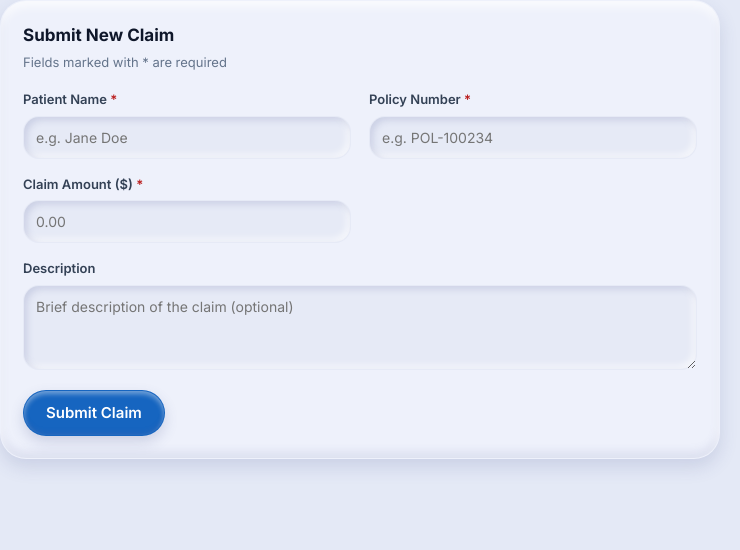
Test: ClaimForm › shows an error alert when the API rejects the submission
Type "Jane" into the field named "patientName" at (187, 137), box [23,116,351,158]
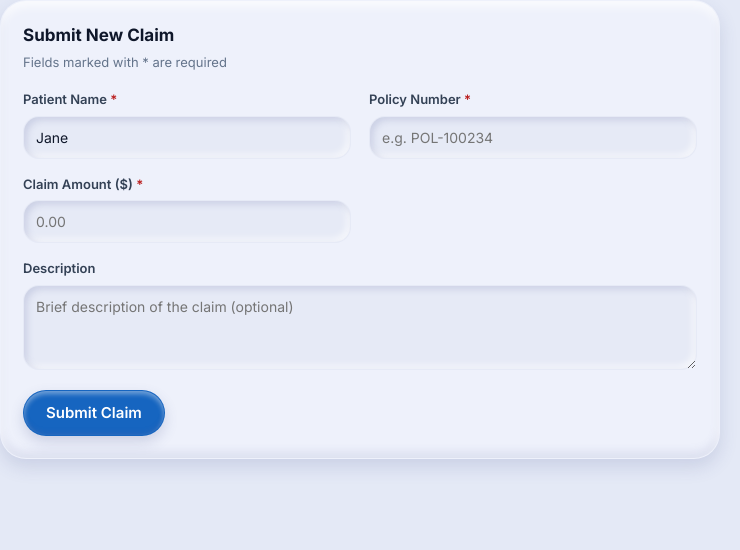
Type "POL-1" into the field named "policyNumber" at (533, 137), box [369,116,697,158]
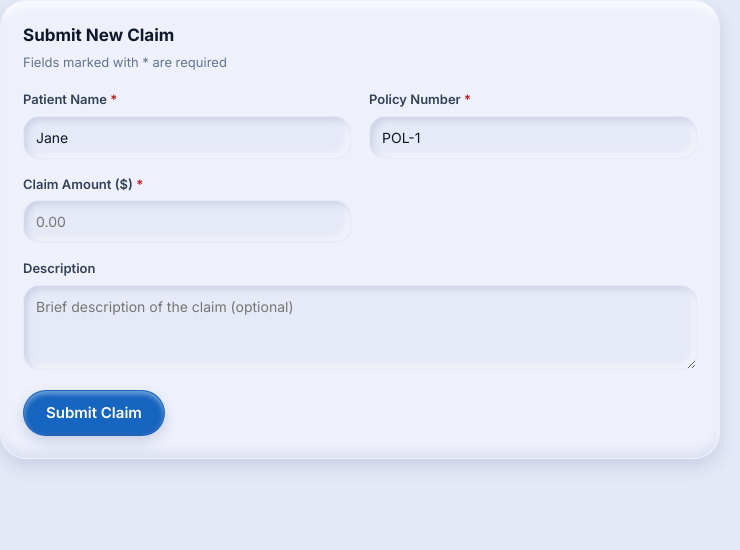
Type "100" into the number field named "claimAmount" at (187, 222), box [23,200,351,243]
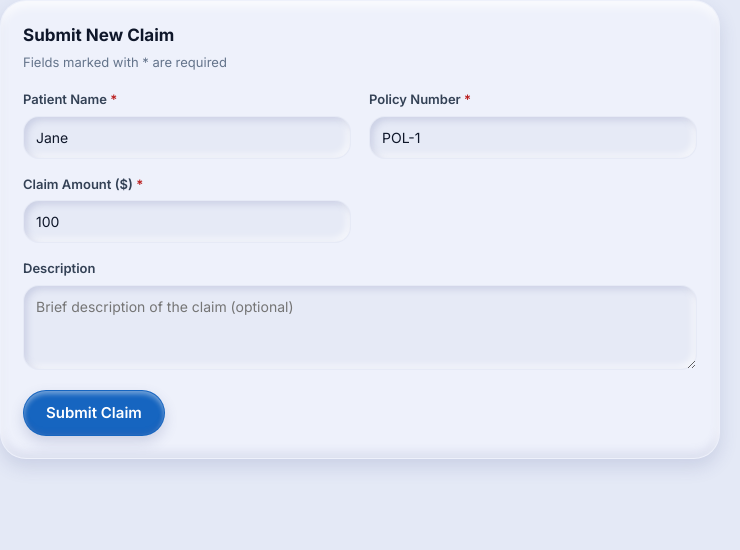
Submit the form, box [23,90,697,436]
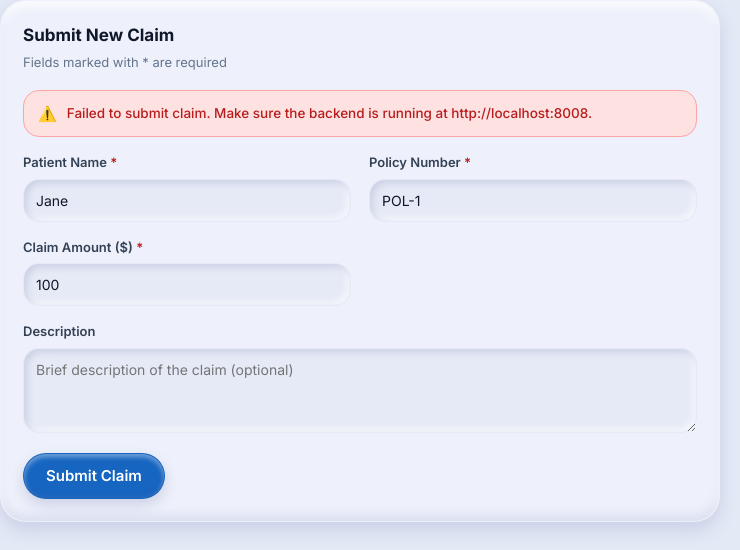
Check: the element with class "alert--error" is shown, box [23,90,697,137]
